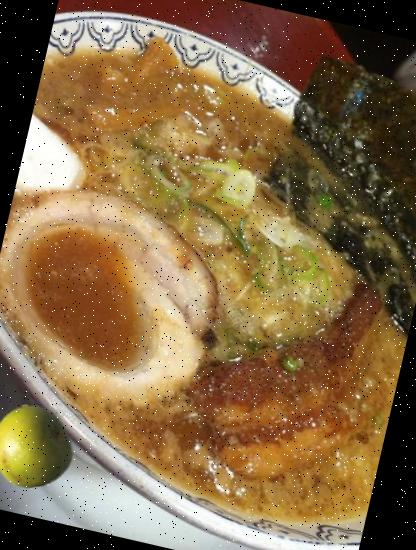Pomelo: (0, 395, 81, 495)
